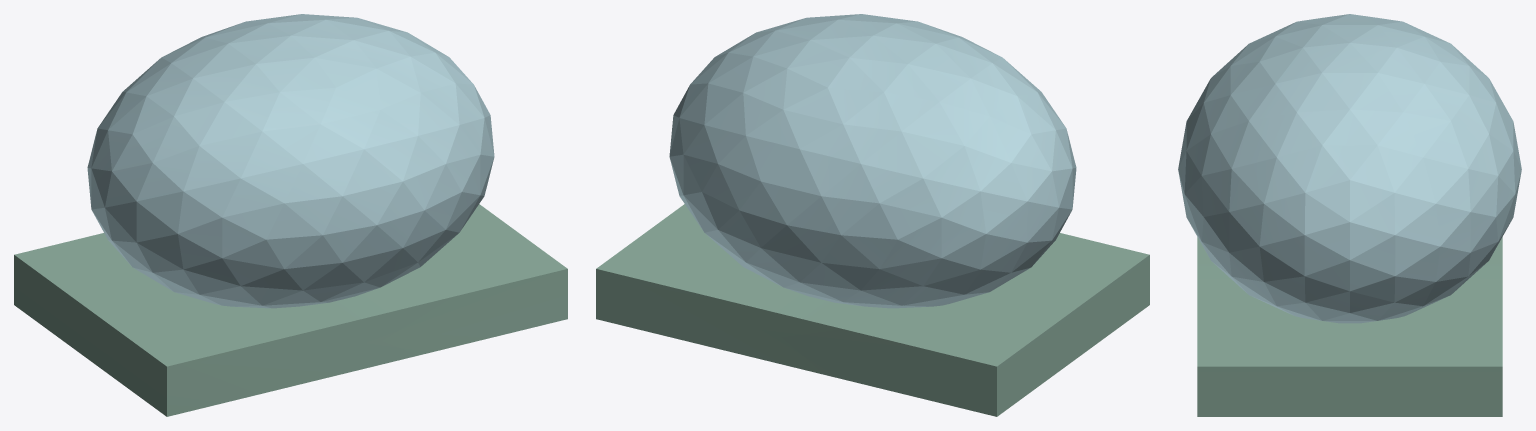
File: observatory-07.glb
3 views of the same model, side by side, from view 1: azimuth 30°, elevation 25°; view 2: azimuth 150°, elevation 25°; view 3: azimuth 270°, elevation 25° (orthographic).
Parts seen in each view (by area): view 1: world; view 2: world; view 3: world.
Boxes of the visible parts, box(x1,y1,x2,y2) form: world: box(14, 14, 567, 416); world: box(596, 14, 1149, 416); world: box(1178, 14, 1521, 416).
Bounding box in the file's own units: 1.67 × 1.1 × 1.24.
